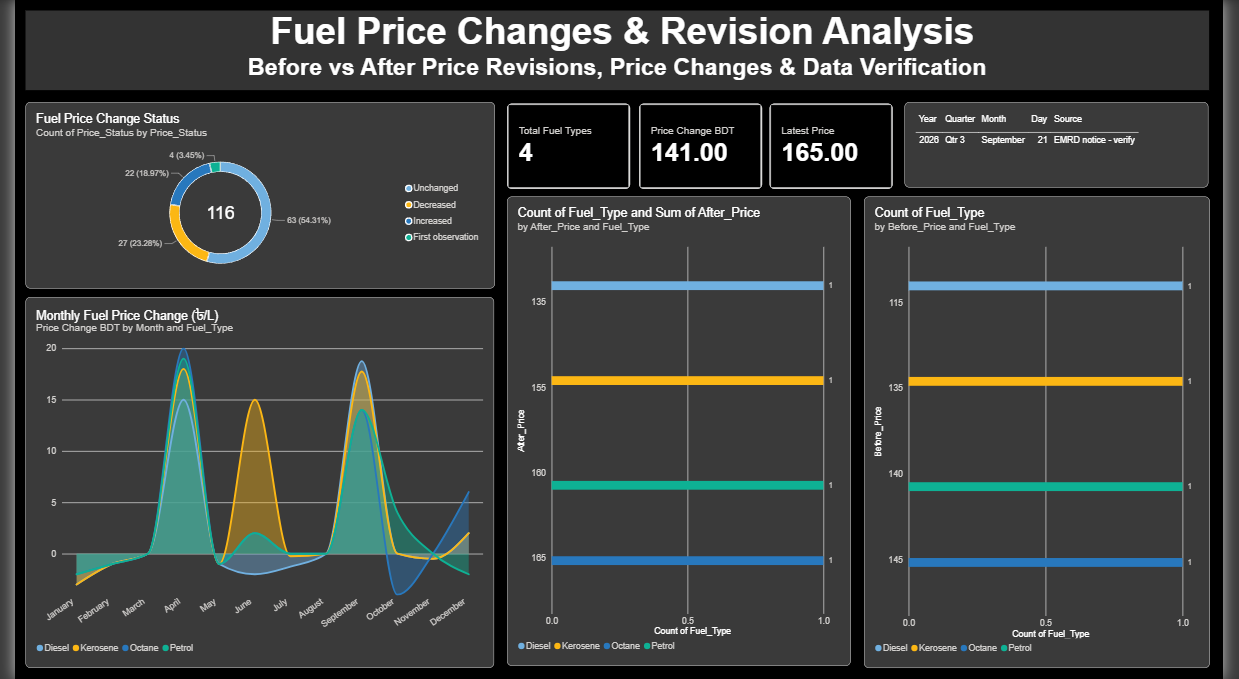

What the dashboard file says about the page in this screenshot:
{"tool":"powerbi","page":{"name":"Price Changes & Revisions","canvas":[1920,1080],"ordinal":2},"visuals":[{"type":"lineChart","title":"Monthly Fuel Price Change (৳/L)","fields":{"Category":["Table1.Month.Variation.Date Hierarchy.Month"],"Series":["Table1.Fuel_Type"],"Y":["Table1.Price Change BDT"]},"box":[17.5,472.5,745,590],"z":0},{"type":"donutChart","title":"Fuel Price Change Status","fields":{"Category":["Table1.Price_Status"],"Y":["CountNonNull(Table1.Price_Status)"]},"box":[16.7,163.3,746.7,296.7],"z":1000},{"type":"clusteredBarChart","fields":{"Category":["Fuel_Price_Revisions (2).Before_Price"],"Series":["Fuel_Price_Revisions (2).Fuel_Type"],"Y":["CountNonNull(Fuel_Price_Revisions (2).Fuel_Type)"]},"box":[1350,313.3,550,750],"z":2000},{"type":"clusteredBarChart","fields":{"Category":["Fuel_Price_Revisions (2).After_Price"],"Series":["Fuel_Price_Revisions (2).Fuel_Type"],"Y":["CountNonNull(Fuel_Price_Revisions (2).Fuel_Type)"]},"box":[783.3,313.3,546.7,746.7],"z":3000},{"type":"tableEx","fields":{"Values":["Fuel_Price_Revisions (2).Revision_Date.Variation.Date Hierarchy.Year","Fuel_Price_Revisions (2).Revision_Date.Variation.Date Hierarchy.Quarter","Fuel_Price_Revisions (2).Revision_Date.Variation.Date Hierarchy.Month","Fuel_Price_Revisions (2).Revision_Date.Variation.Date Hierarchy.Day","Fuel_Price_Revisions (2).Source"]},"box":[1416,162.7,483.3,136],"z":4000},{"type":"textbox","box":[16.7,16.7,1882.5,126.5],"z":5000},{"type":"cardVisual","fields":{"Data":["Table1.Total Fuel Types"]},"box":[783.8,163.8,196.2,136.2],"z":6000},{"type":"cardVisual","fields":{"Data":["Table1.Price Change BDT"]},"box":[992.5,163.8,196.2,136.2],"z":7000},{"type":"cardVisual","fields":{"Data":["Table1.Latest Price"]},"box":[1200,163.8,196.2,136.2],"z":8000}]}

Visuals, with their boxes in screenshot pixels (x1, y1, x2, y2), scaled from the page's 1920x1080 canvas onto the 1239x679 screenshot:
"Monthly Fuel Price Change (৳/L)" lineChart: rect(11, 297, 492, 668)
"Fuel Price Change Status" donutChart: rect(11, 103, 493, 289)
clusteredBarChart - Fuel_Price_Revisions (2).Before_Price x Fuel_Price_Revisions (2).Fuel_Type: rect(871, 197, 1226, 669)
clusteredBarChart - Fuel_Price_Revisions (2).After_Price x Fuel_Price_Revisions (2).Fuel_Type: rect(505, 197, 858, 666)
tableEx - Fuel_Price_Revisions (2).Revision_Date.Variation.Date Hierarchy.Year x Fuel_Price_Revisions (2).Revision_Date.Variation.Date Hierarchy.Quarter: rect(914, 102, 1226, 188)
textbox: rect(11, 10, 1226, 90)
cardVisual - Table1.Total Fuel Types: rect(506, 103, 632, 189)
cardVisual - Table1.Price Change BDT: rect(640, 103, 767, 189)
cardVisual - Table1.Latest Price: rect(774, 103, 901, 189)
